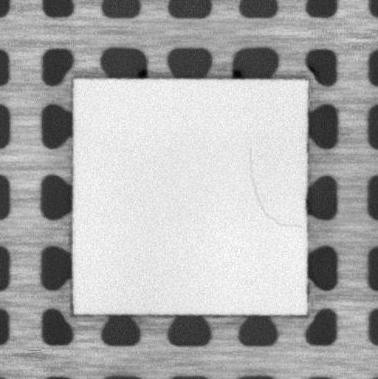DIE_CRACK: (248, 148, 306, 231)
